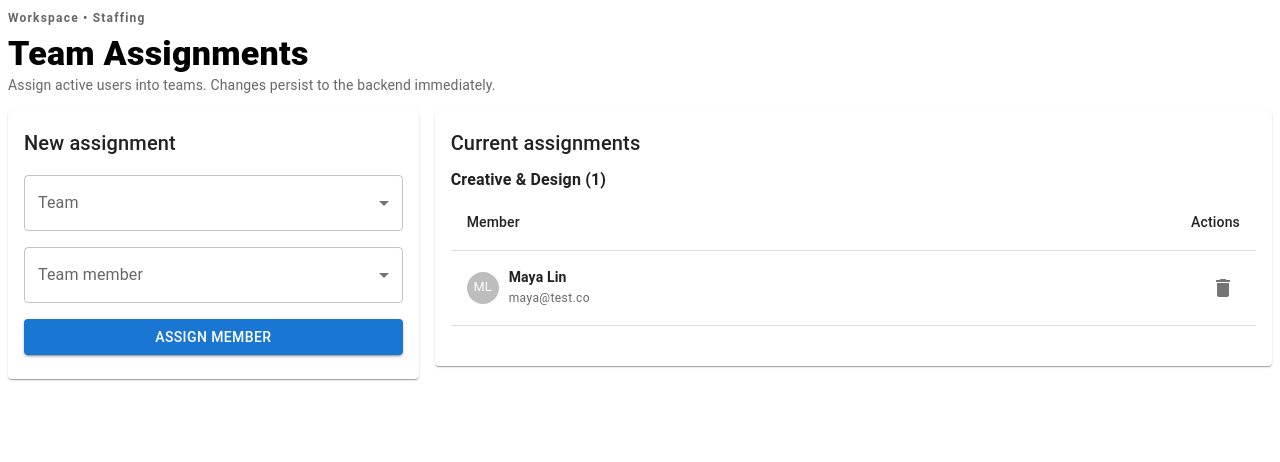
Test: TeamAssignmentsPage › validates that a team and member are selected
The image size is (1280, 462).
Check: the heading "Creative & Design (1)" is shown, box [451,170,606,189]
Click the button "Assign member" at (213, 337), box [24,319,403,355]
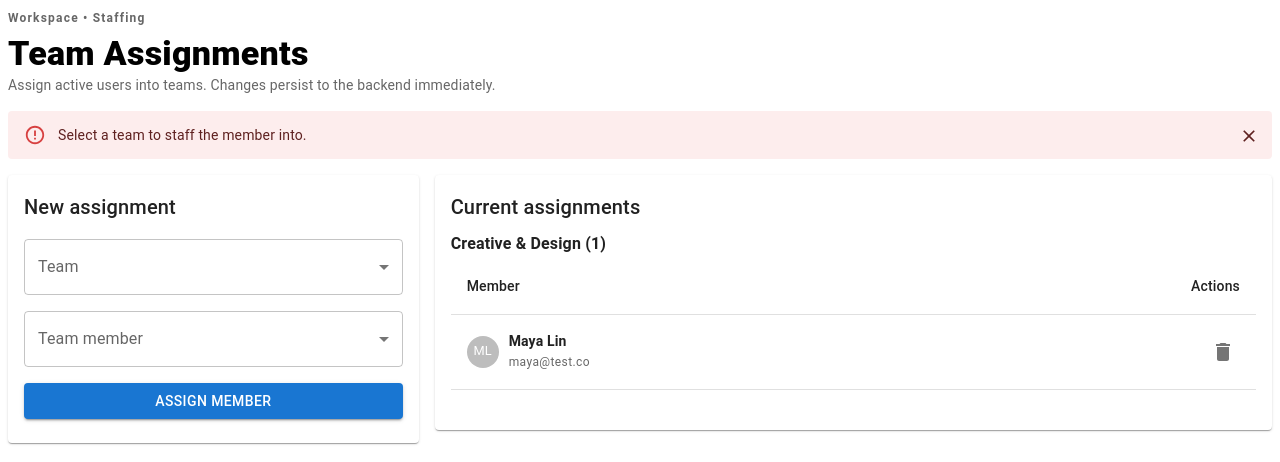
Check: the text "Select a team to staff the member into." is shown, box [58,127,307,143]
